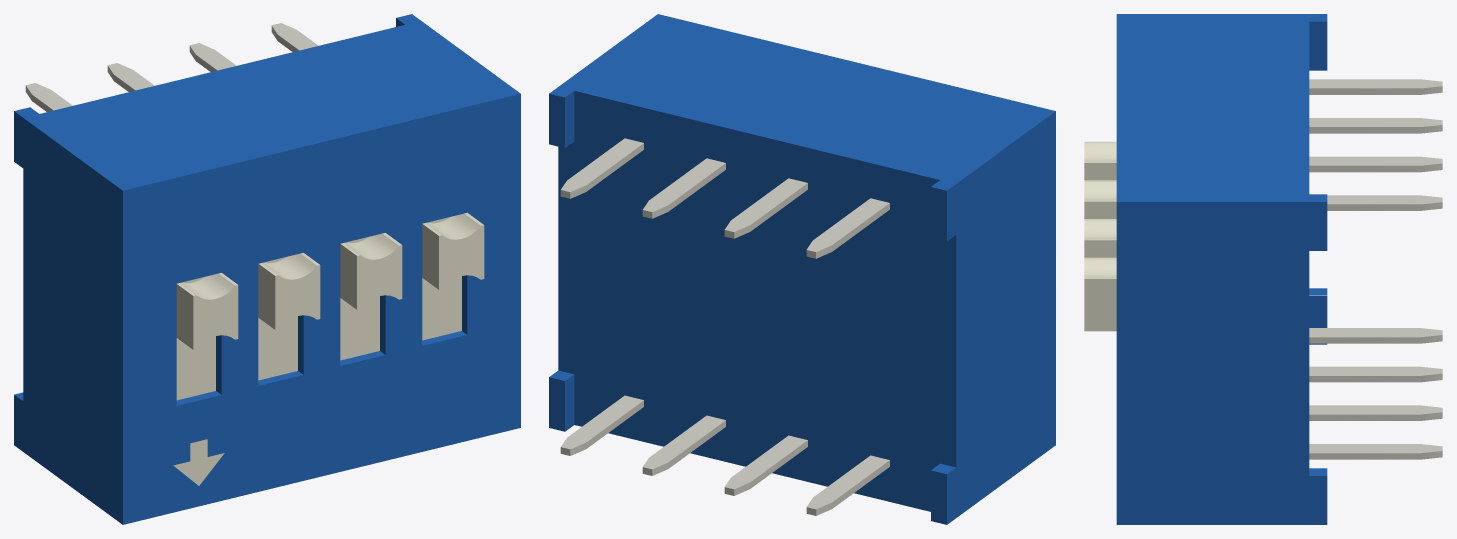
The model's file is dip-switch-4.glb.
3 views of the same model, side by side, from view 1: azimuth 30°, elevation 25°; view 2: azimuth 150°, elevation 25°; view 3: azimuth 270°, elevation 25° (orthographic). The views are drawn at different scales.
Parts seen in each view (by area): view 1: PLASTIC-BLUE-01, PLASTIC-WHITE-01 (×13), PIN-01; view 2: PLASTIC-BLUE-01, PIN-01; view 3: PLASTIC-BLUE-01, PIN-01, PLASTIC-WHITE-01 (×5).
Part boxes in pixels (x1,y1,x2,y2): PLASTIC-BLUE-01: (14, 14, 520, 524); PLASTIC-WHITE-01 (×13): (173, 212, 484, 485); PIN-01: (25, 23, 318, 111); PLASTIC-BLUE-01: (549, 14, 1055, 524); PIN-01: (560, 138, 889, 515); PLASTIC-BLUE-01: (1116, 14, 1327, 524); PIN-01: (1309, 79, 1442, 459); PLASTIC-WHITE-01 (×5): (1084, 141, 1116, 331).
Size of the model in its own units: 12.34 by 9.9 by 9.95.
